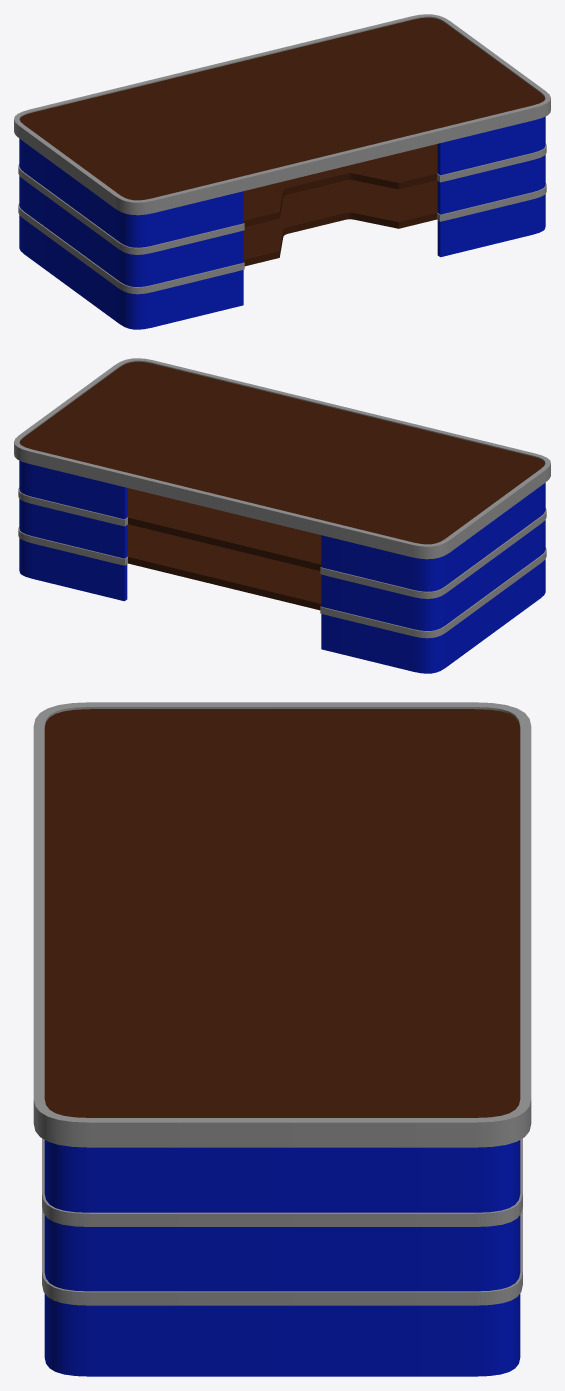
File: desk.FBX
3 views of the same model, one above another, from view 1: azimuth 30°, elevation 25°; view 2: azimuth 150°, elevation 25°; view 3: azimuth 270°, elevation 25° (orthographic). The views are drawn at different scales.
Parts seen in each view (by area): view 1: Box001; view 2: Box001; view 3: Box001.
Part boxes in pixels (<box>): Box001: <box>14,14,550,329</box>; Box001: <box>14,358,550,673</box>; Box001: <box>33,702,531,1376</box>.
Size of the model in its own units: 96.24 by 27.62 by 48.16.
